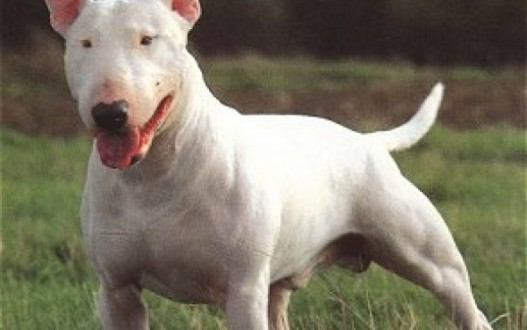bull_terrier: (43, 0, 493, 330)
